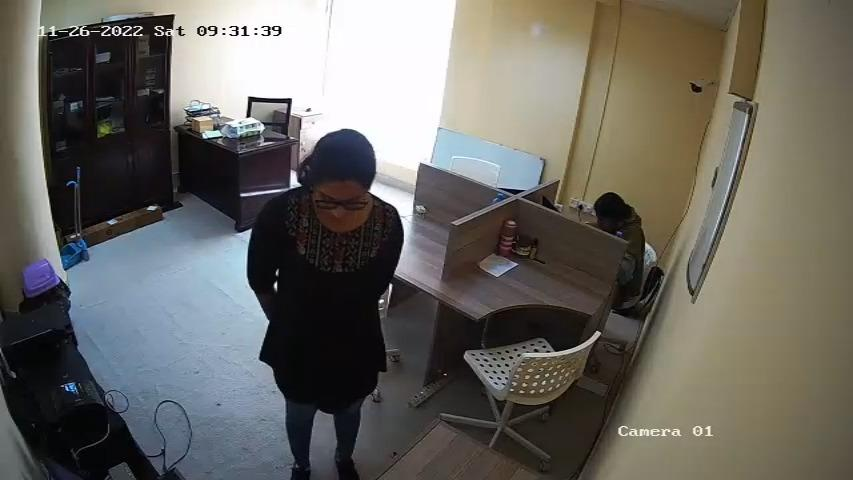no_apron: (282, 217, 381, 394)
